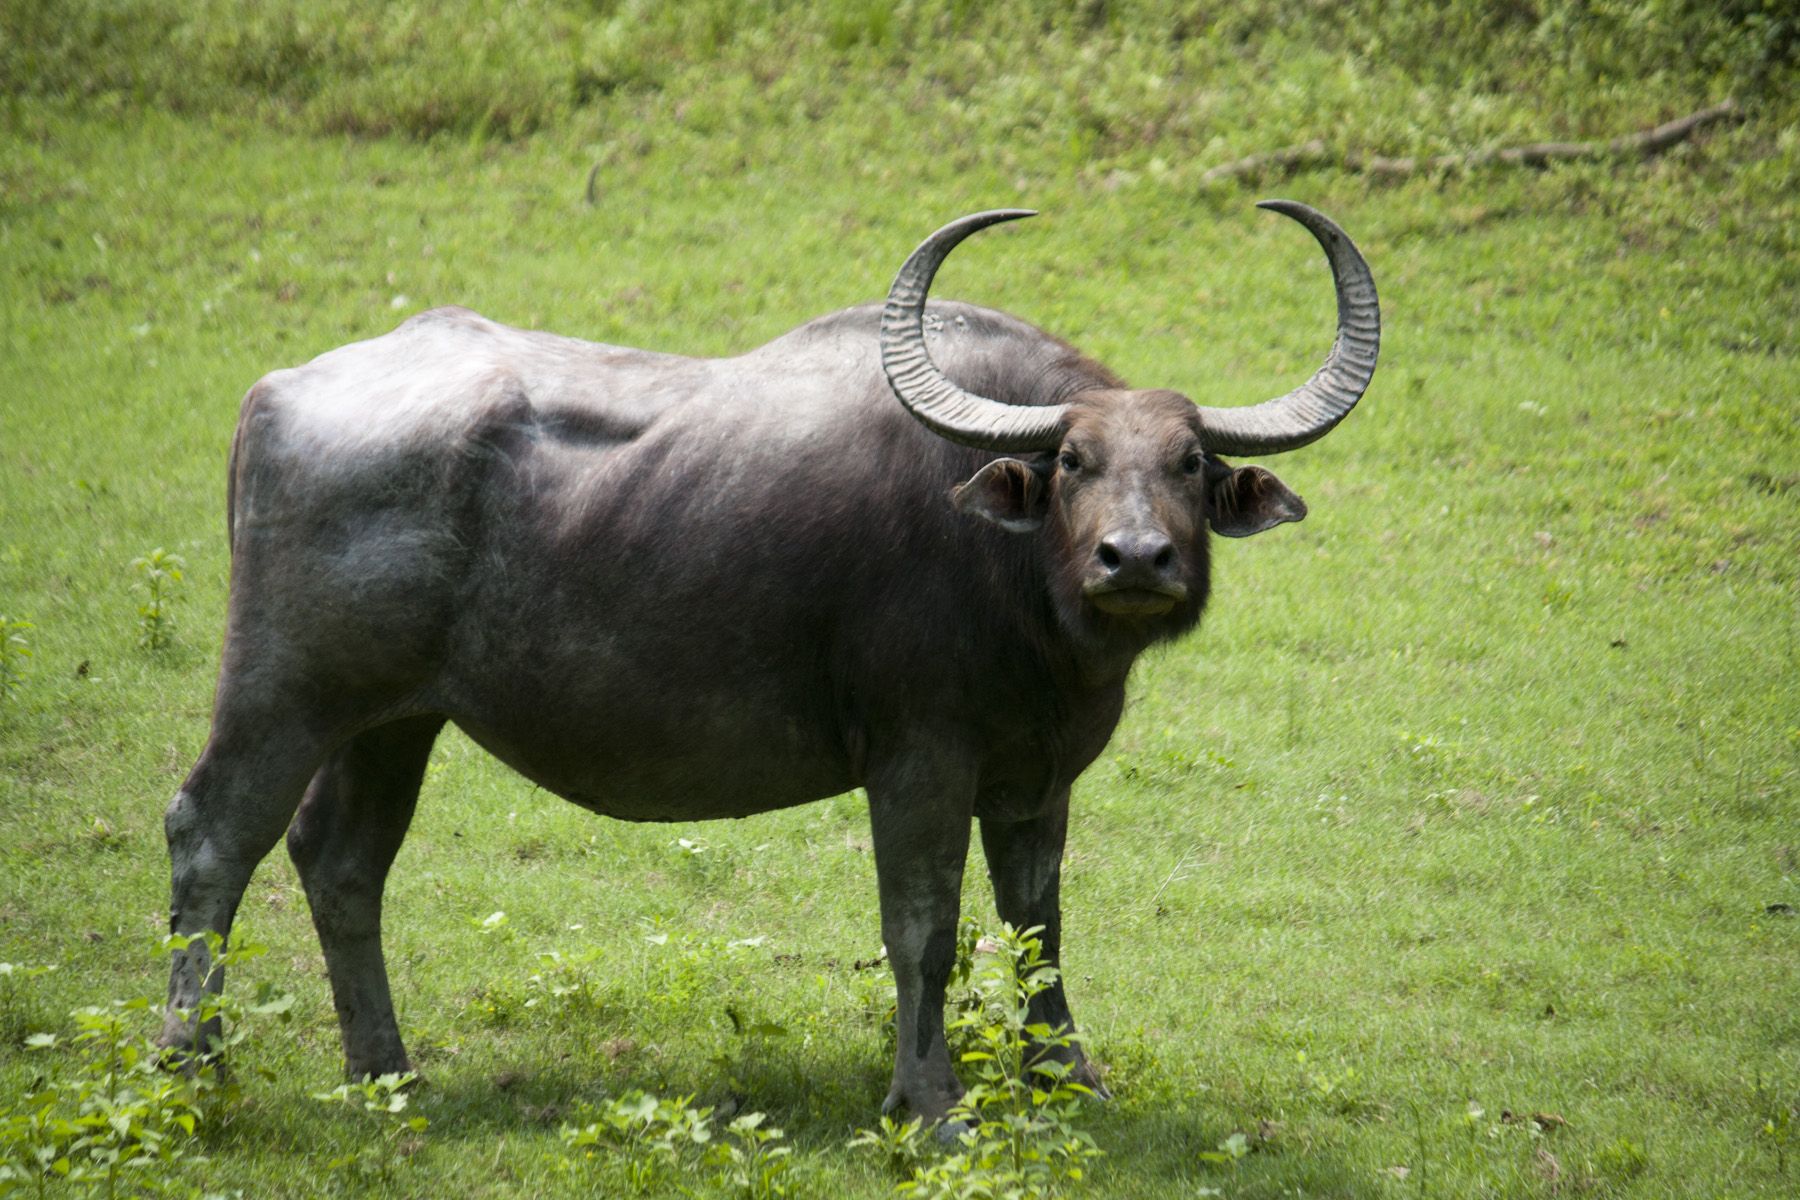buffalo: (125, 179, 1396, 1122)
